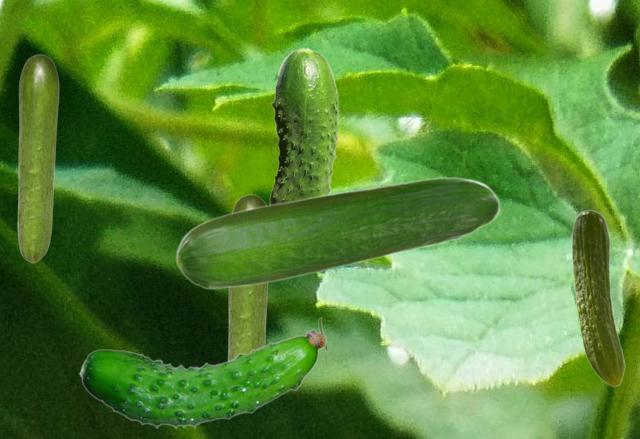cucumber: (175, 176, 499, 289), (78, 317, 325, 428), (269, 47, 339, 203), (571, 209, 624, 386), (17, 54, 58, 262), (227, 194, 268, 359)
